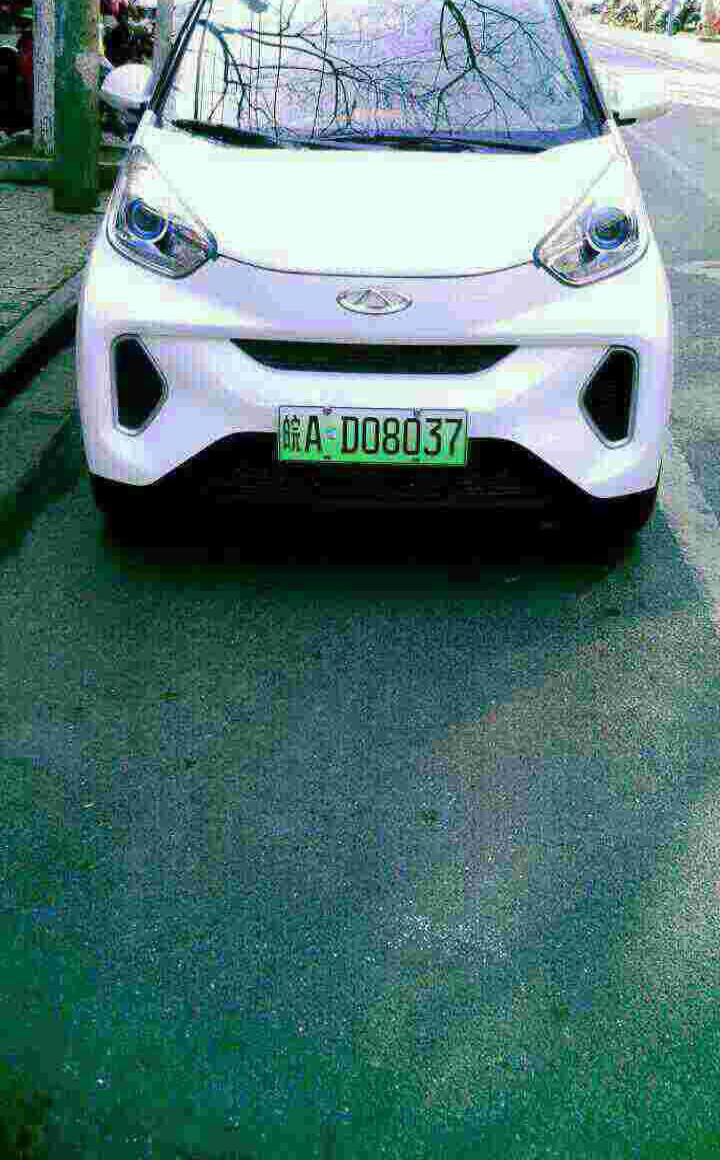car: (275, 386, 474, 472)
